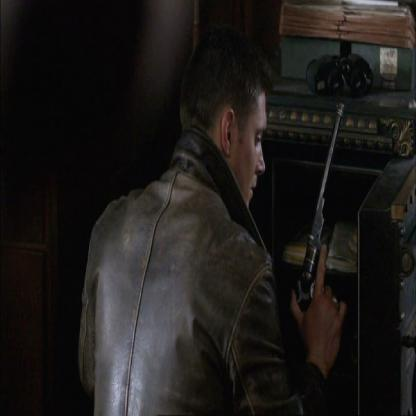Guns: (294, 98, 345, 306)
